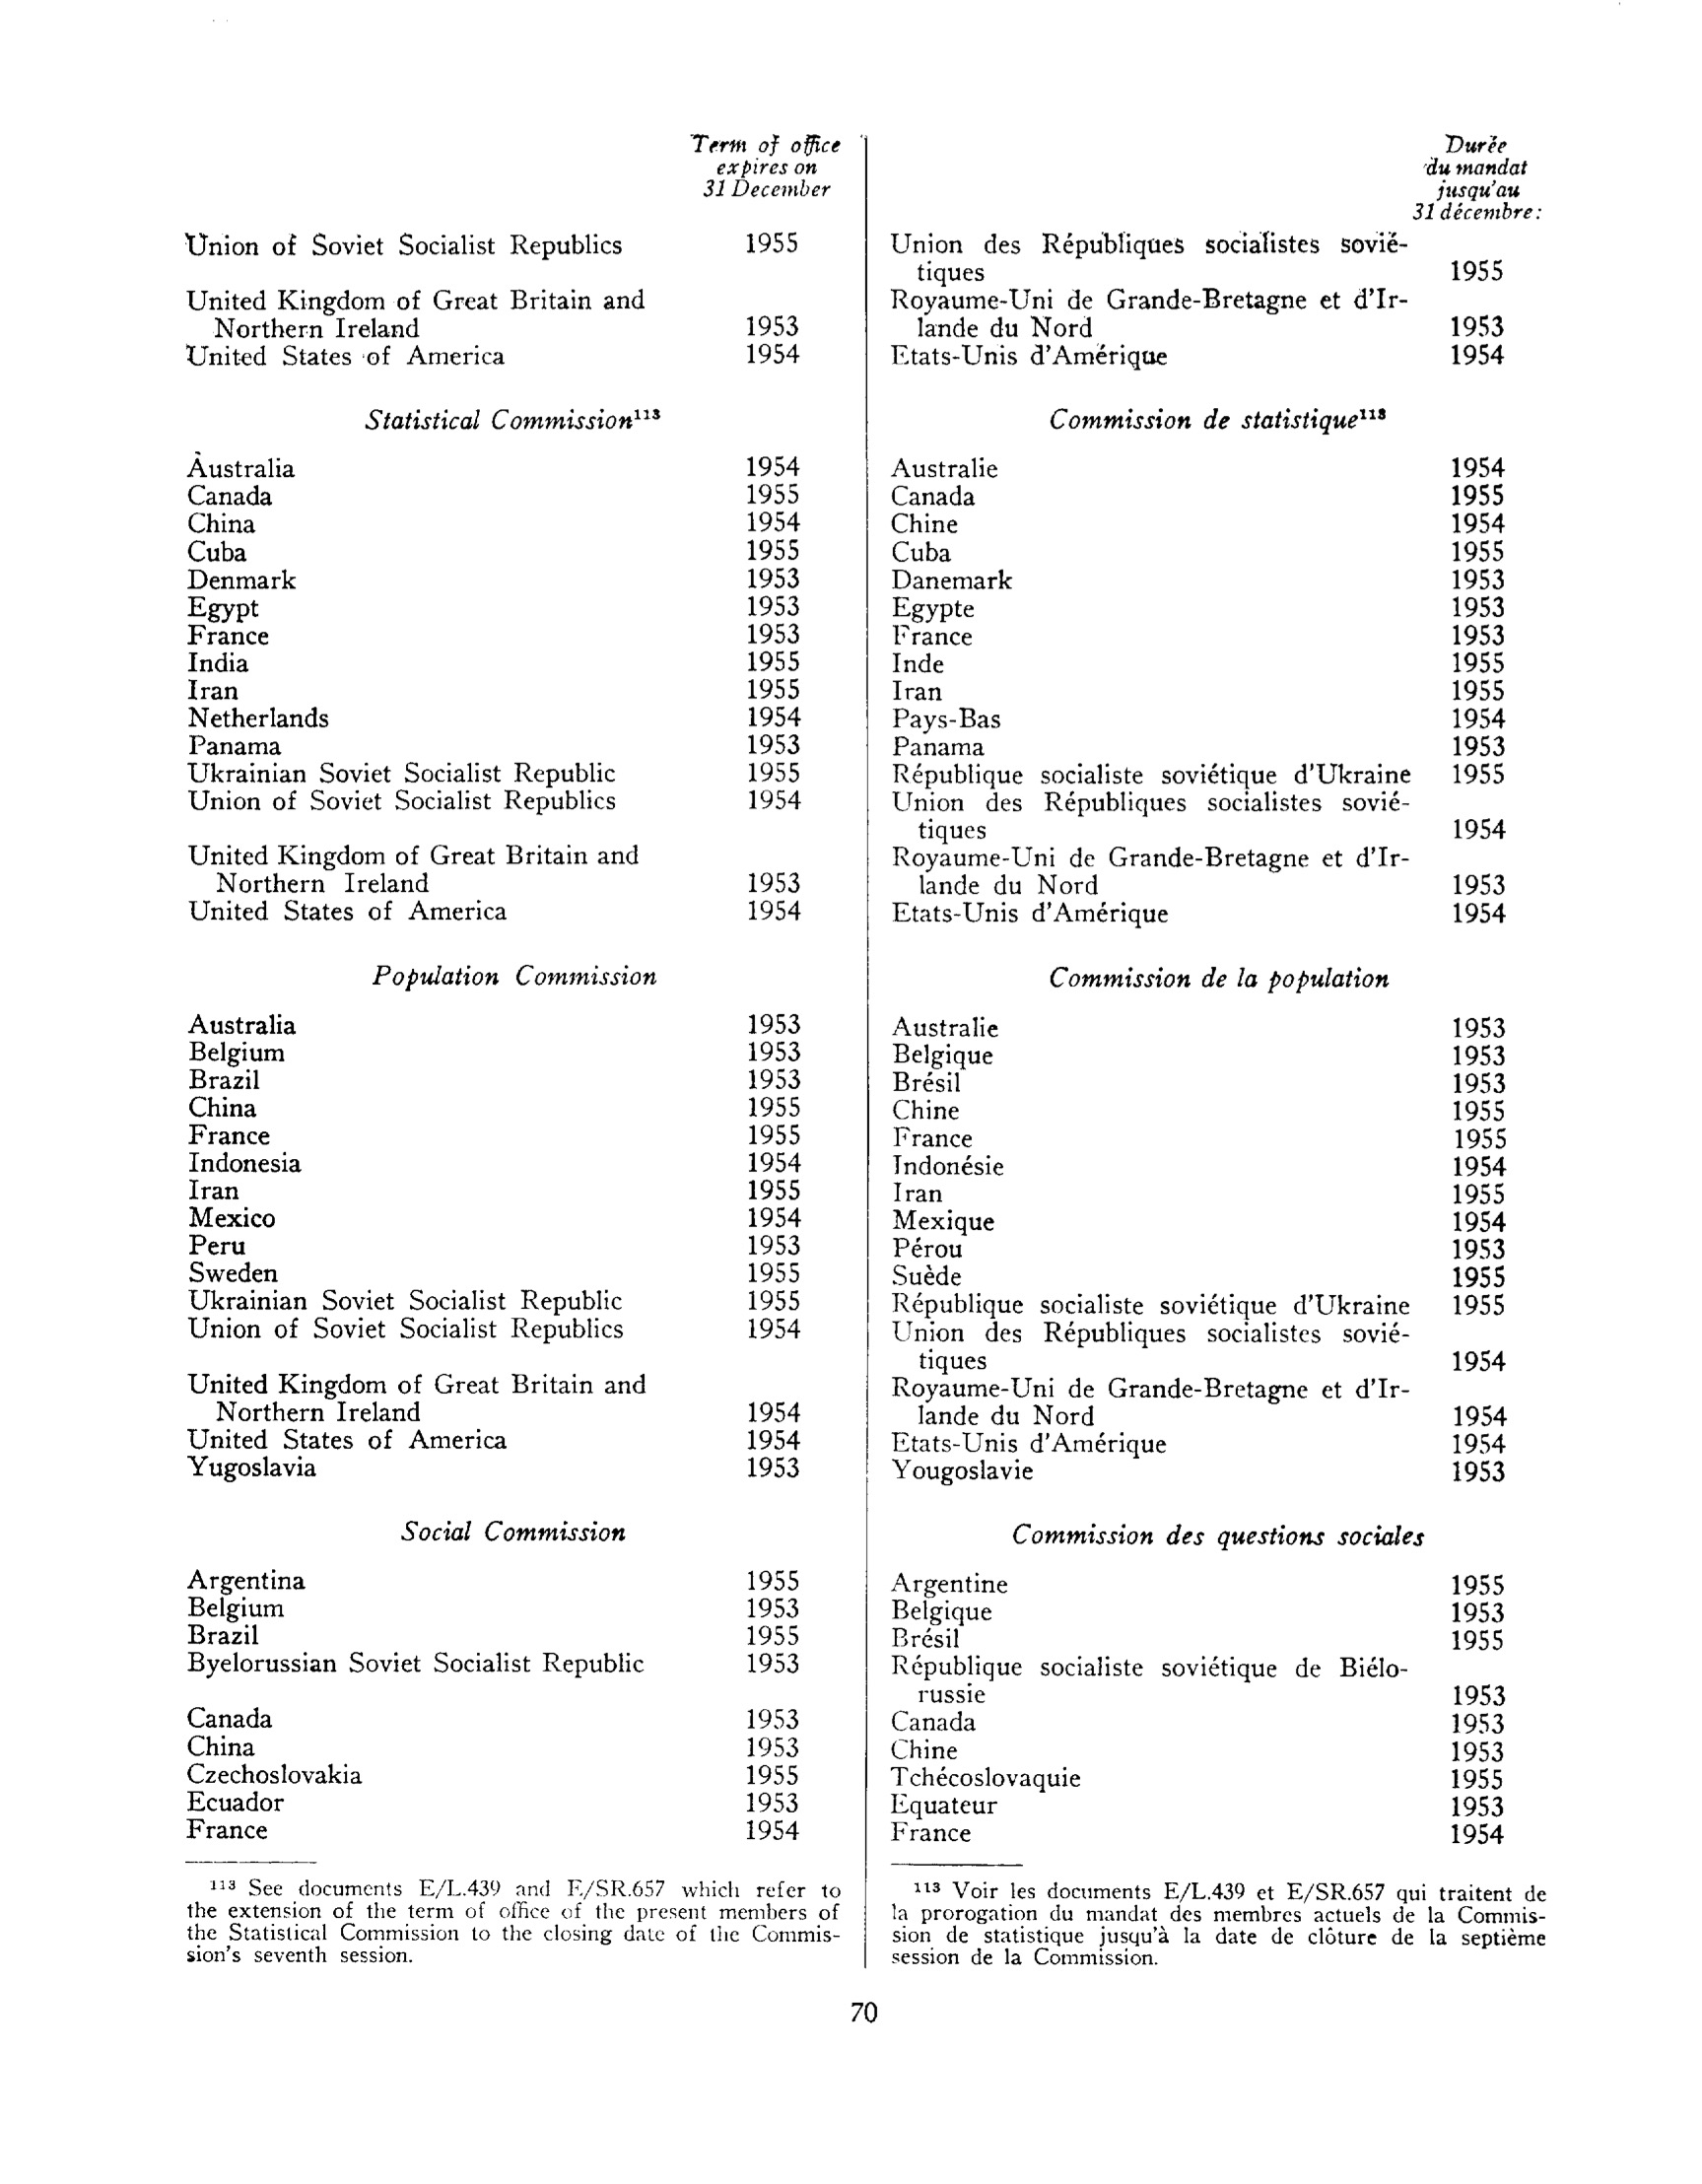MarginTextZone-Notes: (874, 1874, 1553, 1973), (174, 1874, 851, 1969)
QuireMarksZone: (129, 108, 849, 1861), (876, 117, 1576, 1849)
TitlePageZone: (842, 1996, 885, 2033)
